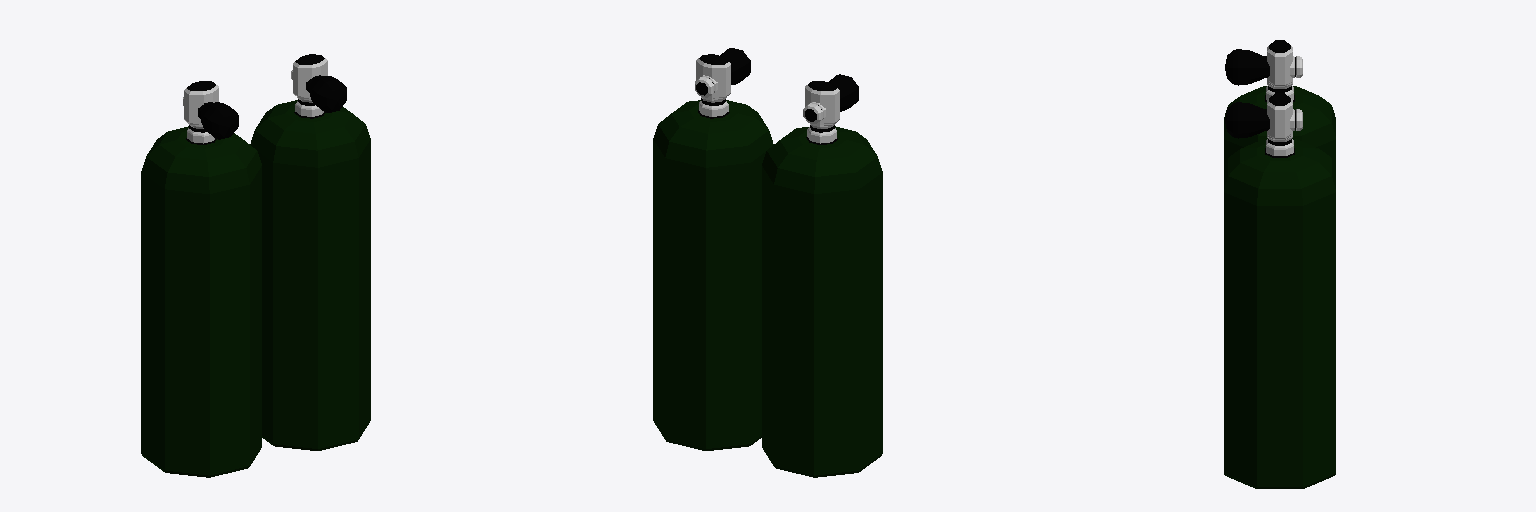
File: scubatanks.sgm.obj
3 views of the same model, side by side, from view 1: azimuth 30°, elevation 25°; view 2: azimuth 150°, elevation 25°; view 3: azimuth 270°, elevation 25° (orthographic).
Visible parts, largest first — view 1: 0, 2, 1; view 2: 0, 1, 2; view 3: 0, 2, 1.
Boxes of the visible parts, x1,y1,x2,y2 form: 0: [141, 100, 370, 477]; 2: [186, 54, 346, 144]; 1: [183, 58, 327, 143]; 0: [653, 100, 882, 477]; 1: [695, 58, 839, 143]; 2: [696, 48, 858, 144]; 0: [1224, 86, 1335, 488]; 2: [1225, 40, 1295, 157]; 1: [1266, 46, 1302, 155].
Bounding box in the file's own units: 0.3599 × 0.6168 × 0.1703.